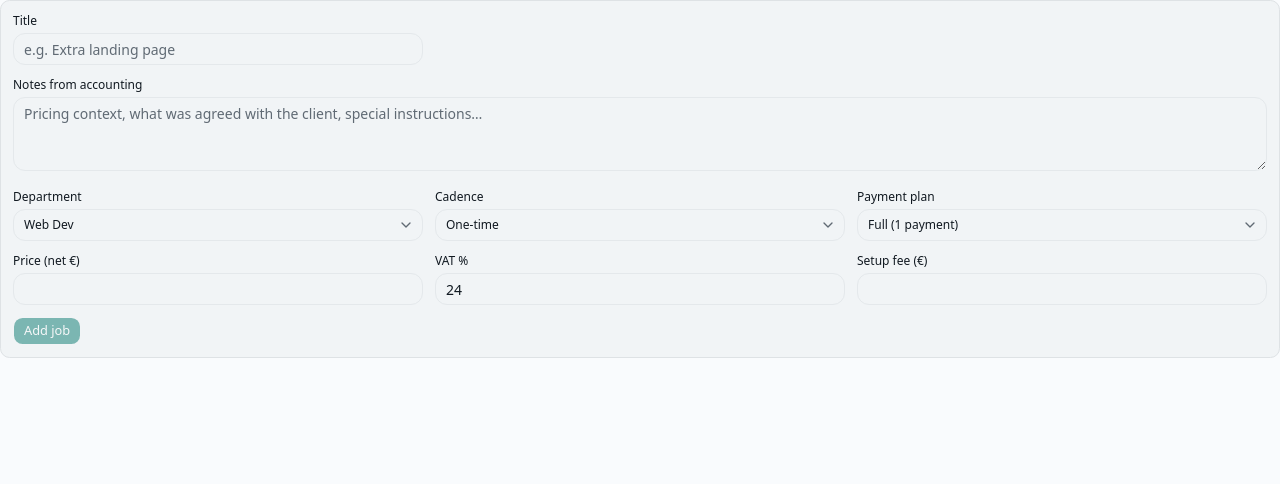
Scenario: AddCustomJobForm › restricts the franchise cadence options to one-time only
Click the dropdown named "department": (49, 224) [13, 209, 423, 241]
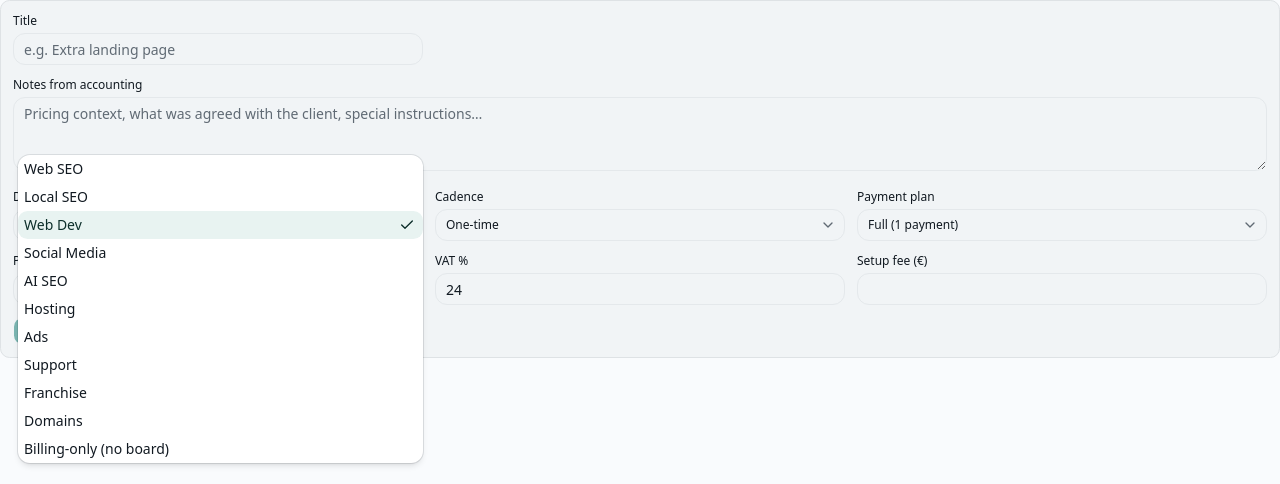
Click the option "Franchise": (55, 392) [24, 383, 87, 402]
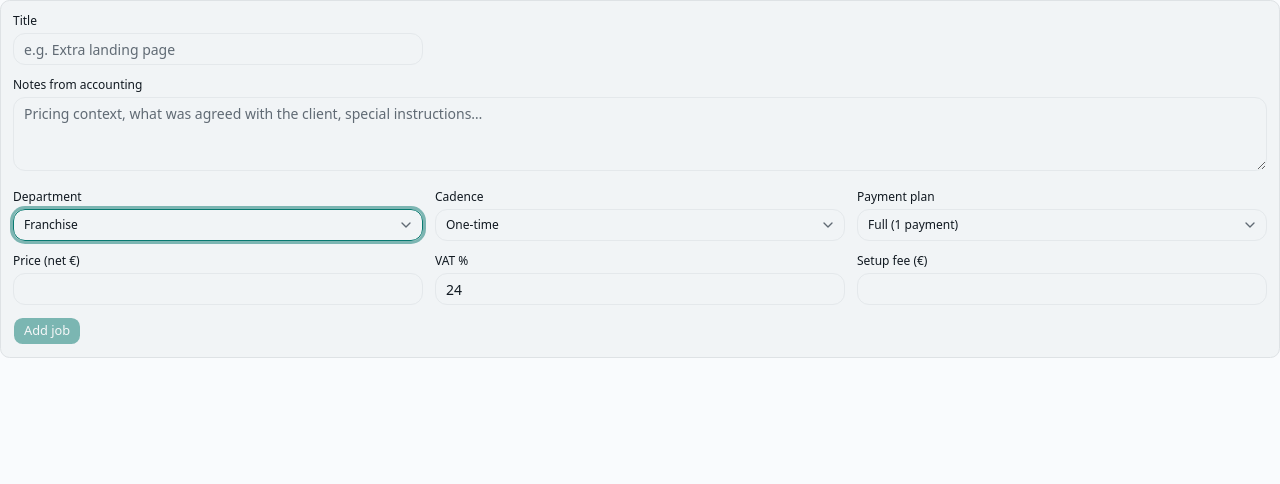
Click the dropdown named "cadence": (472, 224) [435, 209, 845, 241]
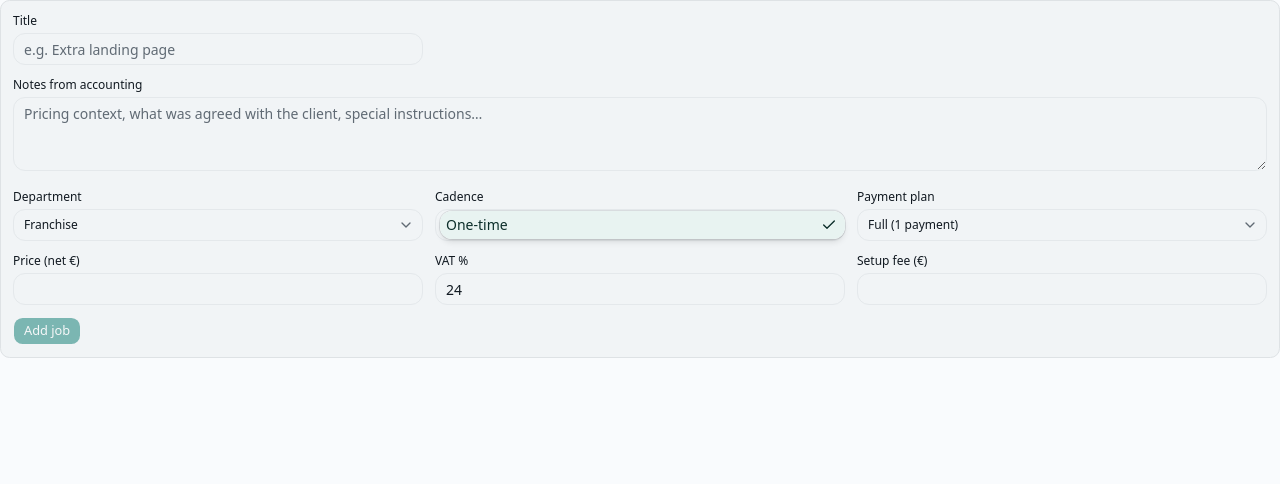
Expected: the options read "One-time", in this order, [440, 211, 845, 239]
